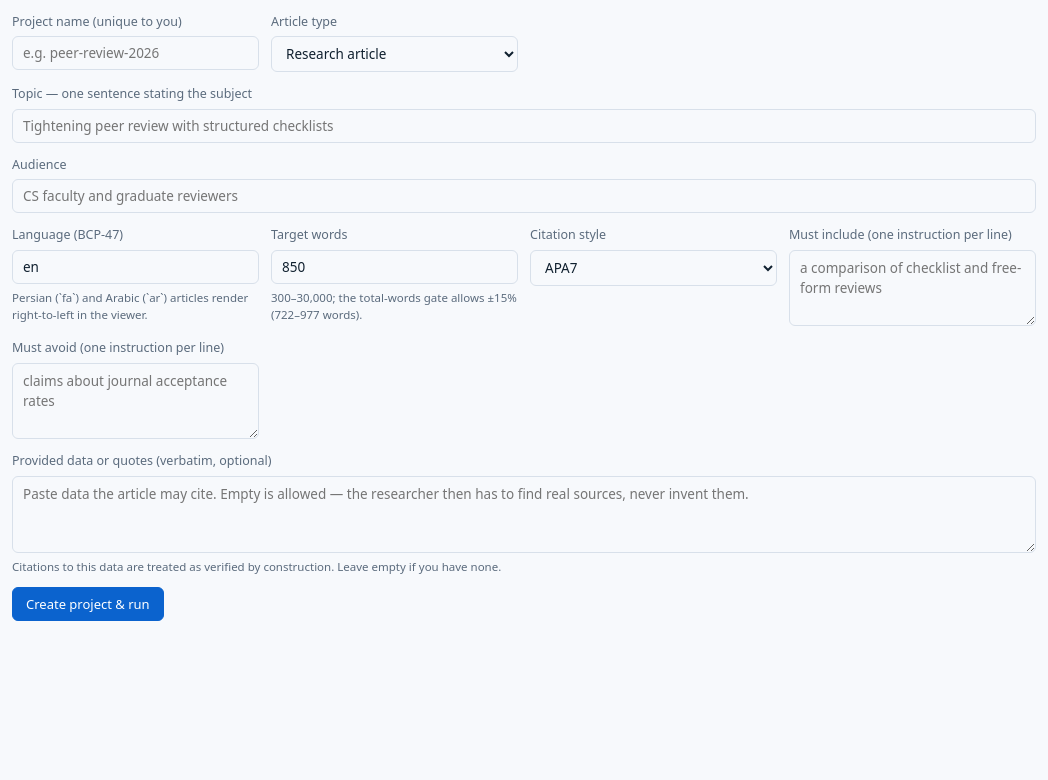
BriefWizard (Brief form with inline validation) › shows inline errors on submit, focuses the first invalid field and does not submit
Click the button "Create project & run" at point(88, 604), box [12,587,164,621]
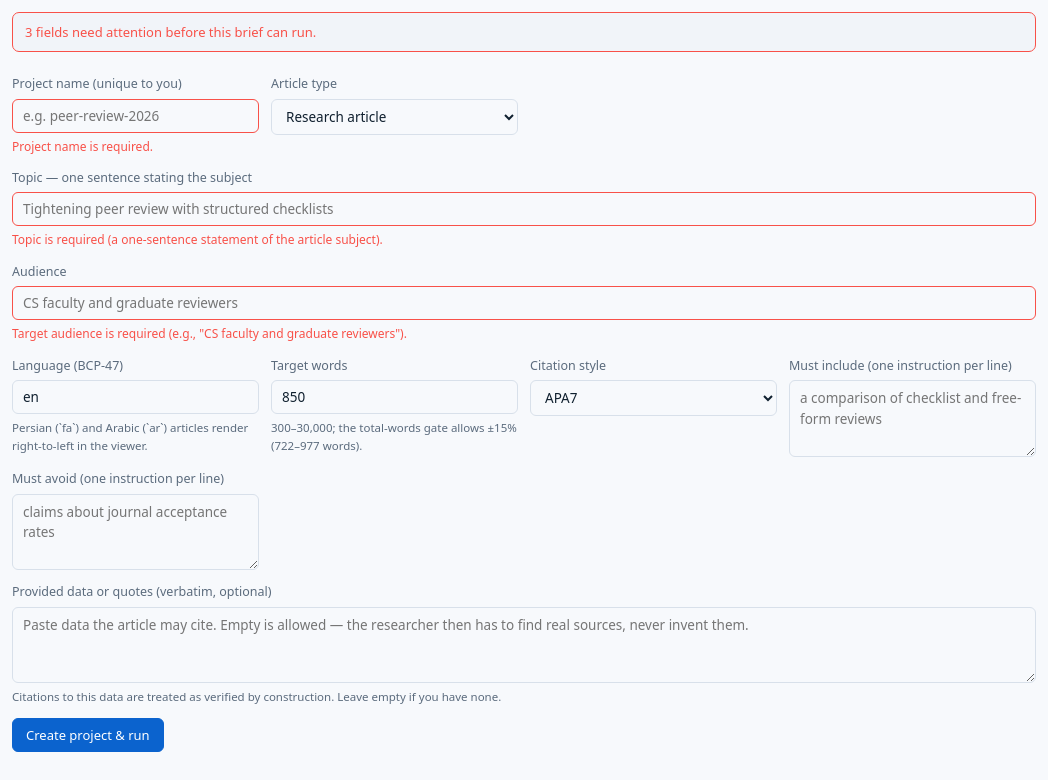
Expected: the message shows "need attention", [69,23,316,41]
Expected: the text "Project name is required." is shown, [12,138,153,154]
Expected: the text "Topic is required" is shown, [12,232,383,248]
